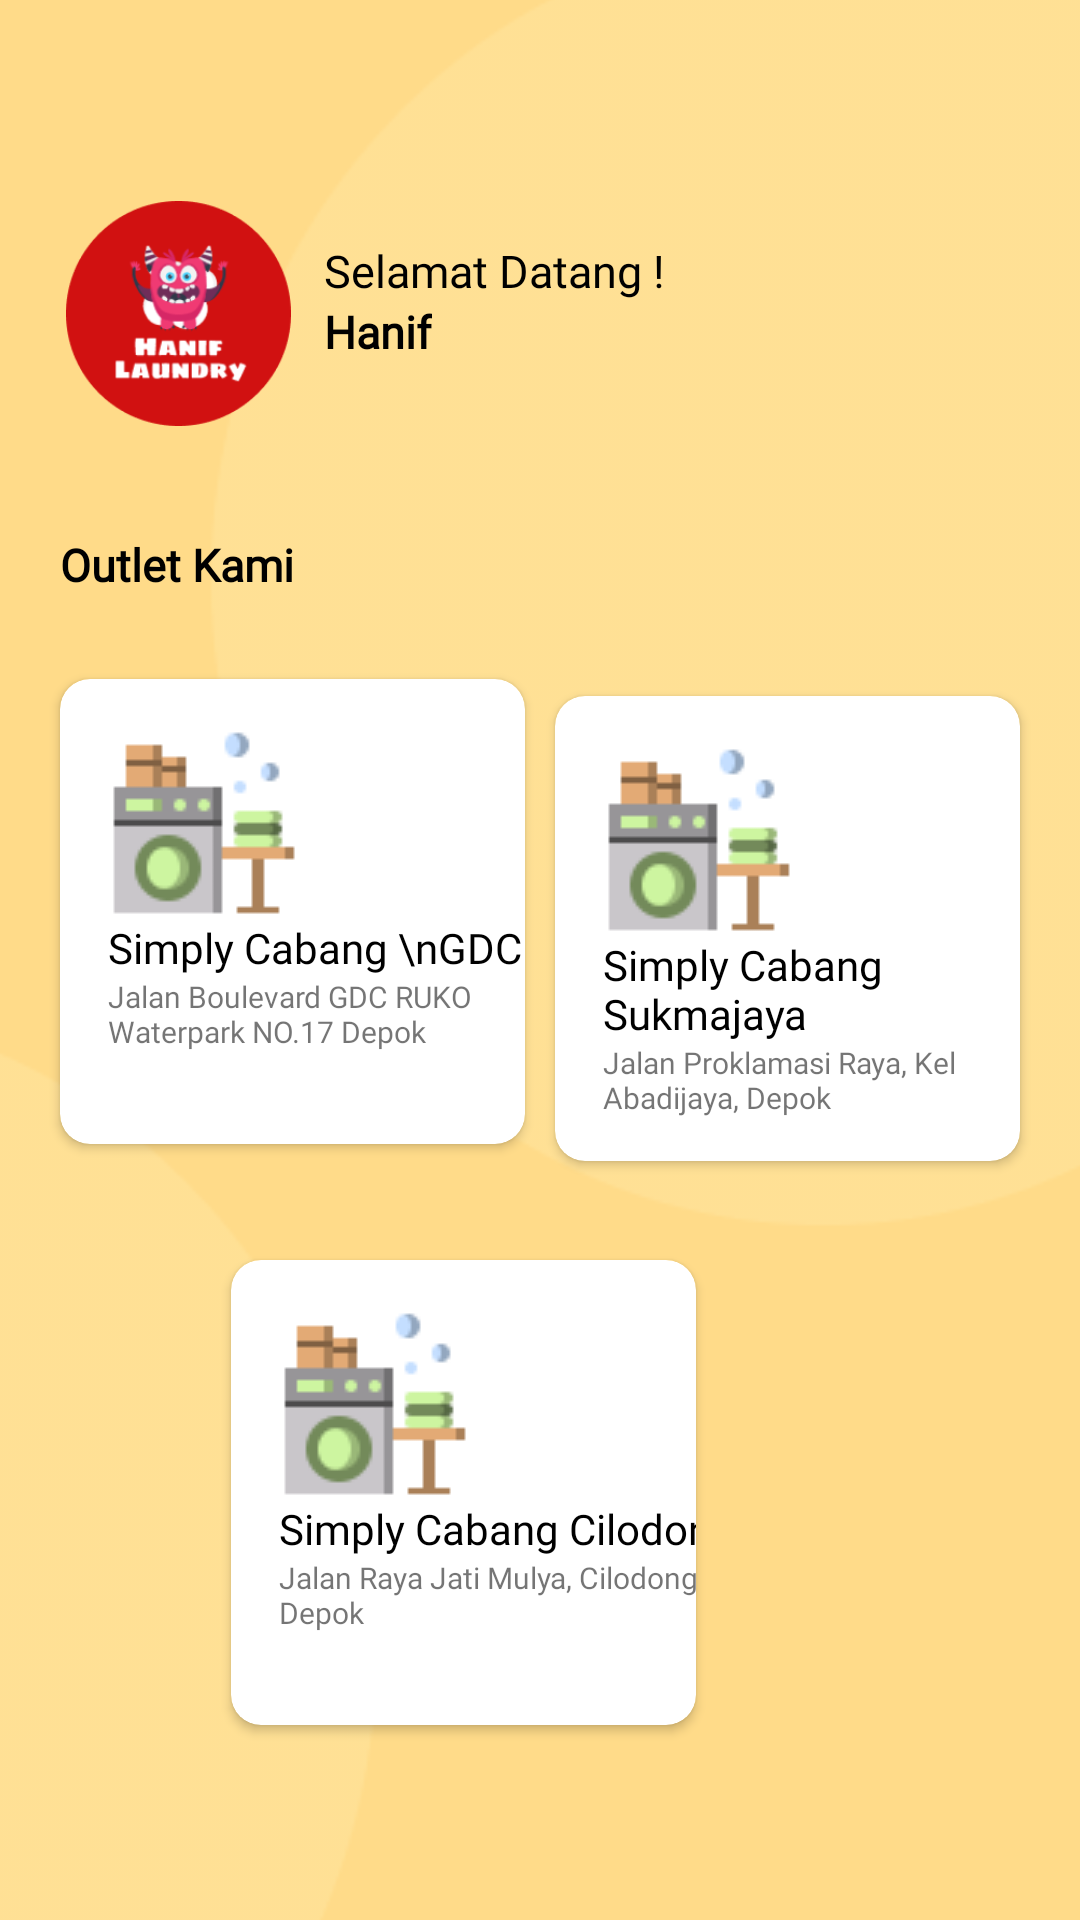

Icons on this 1080x1920 Android screen, each with its box as (x1, y1, x2, y2):
mesincuci: (113, 732, 295, 914), (608, 749, 790, 931), (284, 1313, 466, 1495)
